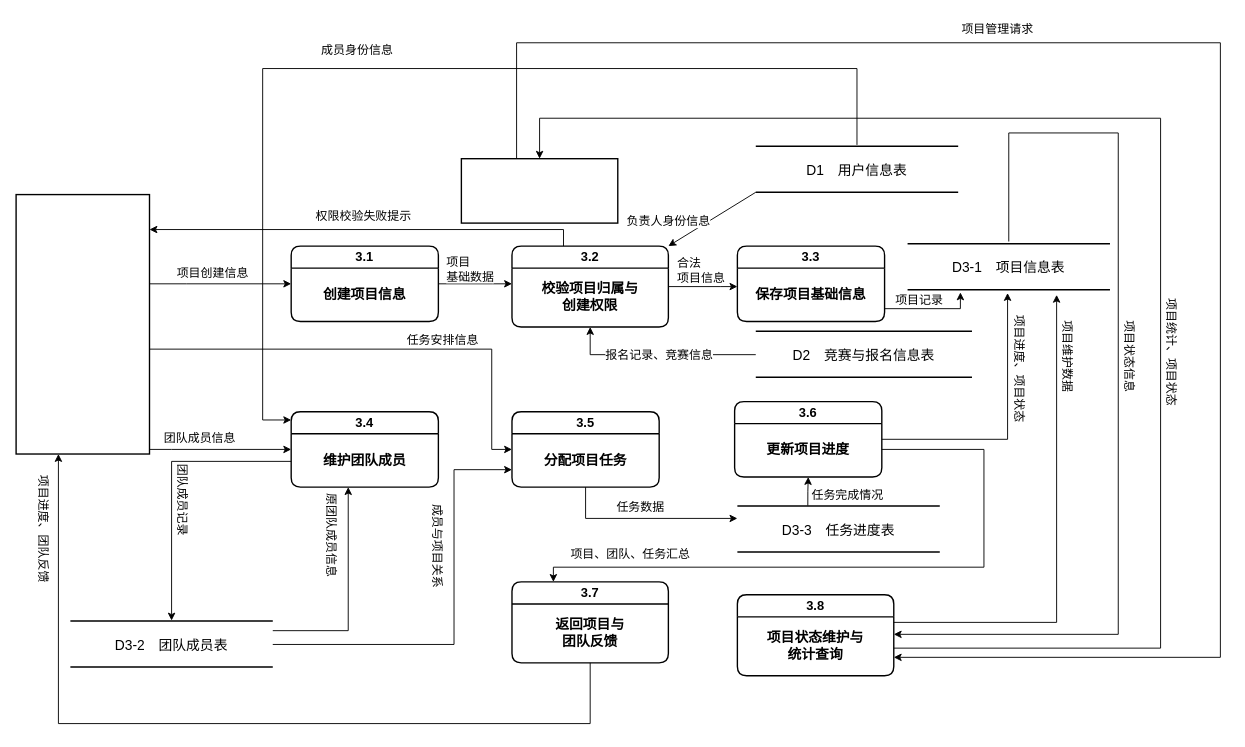
This 1245x747 diagram has some shape labels left out. The shapes that lost their labels are listed below. From the top down, each one's centre as x and y in pixels, then its label:
[539,190]: 管理员
[82,323]: 学生
